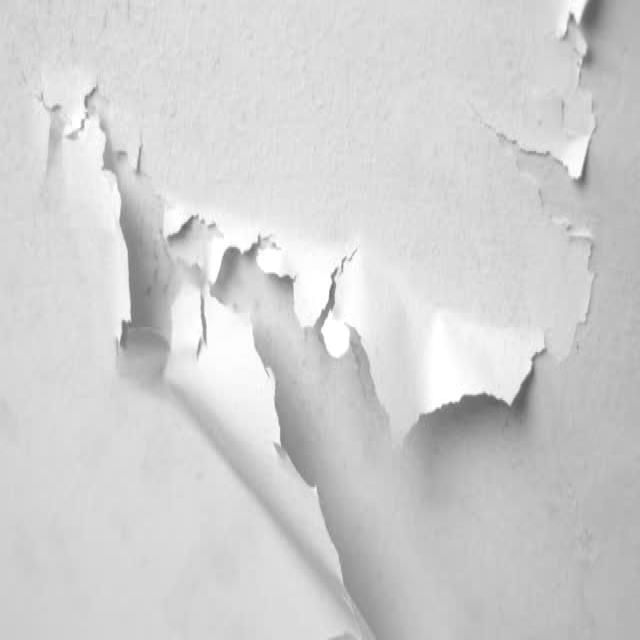peeling paint: (22, 0, 609, 640)
